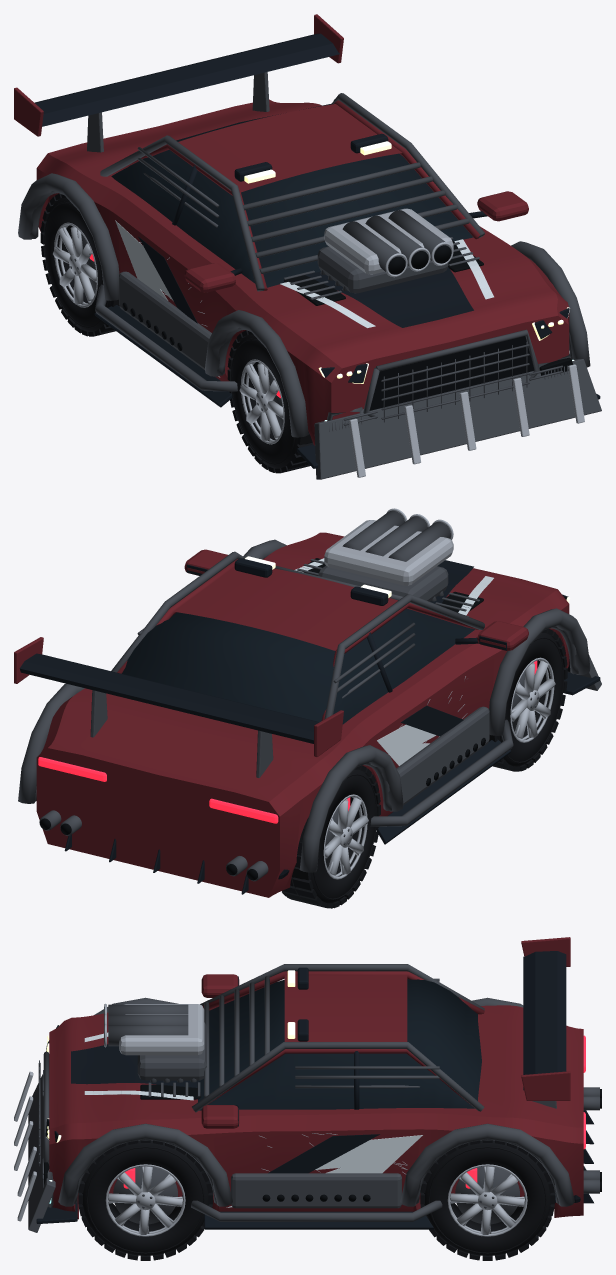
File: ironjaw.glb
3 views of the same model, one above another, from view 1: azimuth 30°, elevation 25°; view 2: azimuth 150°, elevation 25°; view 3: azimuth 270°, elevation 25° (orthographic). The views are drawn at different scales.
Visible parts, largest first — view 1: body, wheel_fl_spin_mesh, wheel_rl_spin_mesh; view 2: body, wheel_rl_spin_mesh, wheel_fl_spin_mesh; view 3: body, wheel_fr_spin_mesh, wheel_rr_spin_mesh.
Part boxes in pixels (box(x1,y1,x2,y2)): body: box(14, 14, 601, 479); wheel_fl_spin_mesh: box(227, 330, 313, 473); wheel_rl_spin_mesh: box(40, 193, 119, 336); body: box(14, 508, 601, 897); wheel_rl_spin_mesh: box(282, 765, 380, 908); wheel_fl_spin_mesh: box(489, 628, 567, 771); body: box(14, 937, 601, 1232); wheel_fr_spin_mesh: box(78, 1140, 212, 1260); wheel_rr_spin_mesh: box(420, 1140, 554, 1260).
Bounding box in the file's own units: 3.15 × 2.01 × 5.34.
